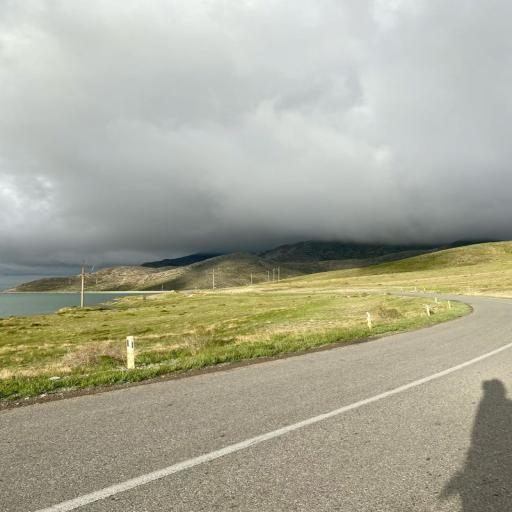ramp: (0, 296, 511, 511)
